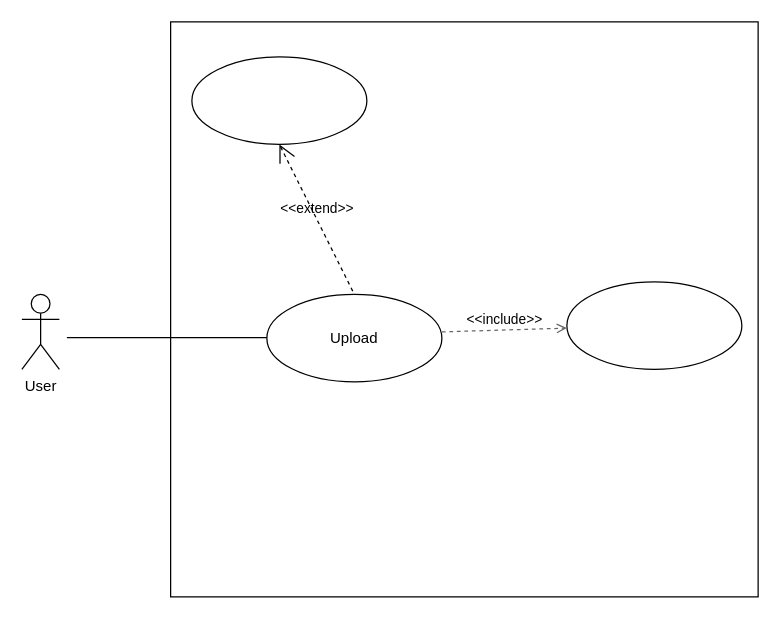
Image size: 780x619. Some labels were removed from this diagram. The centre of each missing label's shape, as x and y in pixels:
Choose file/photo: (x=279, y=100)
Login: (x=654, y=325)
